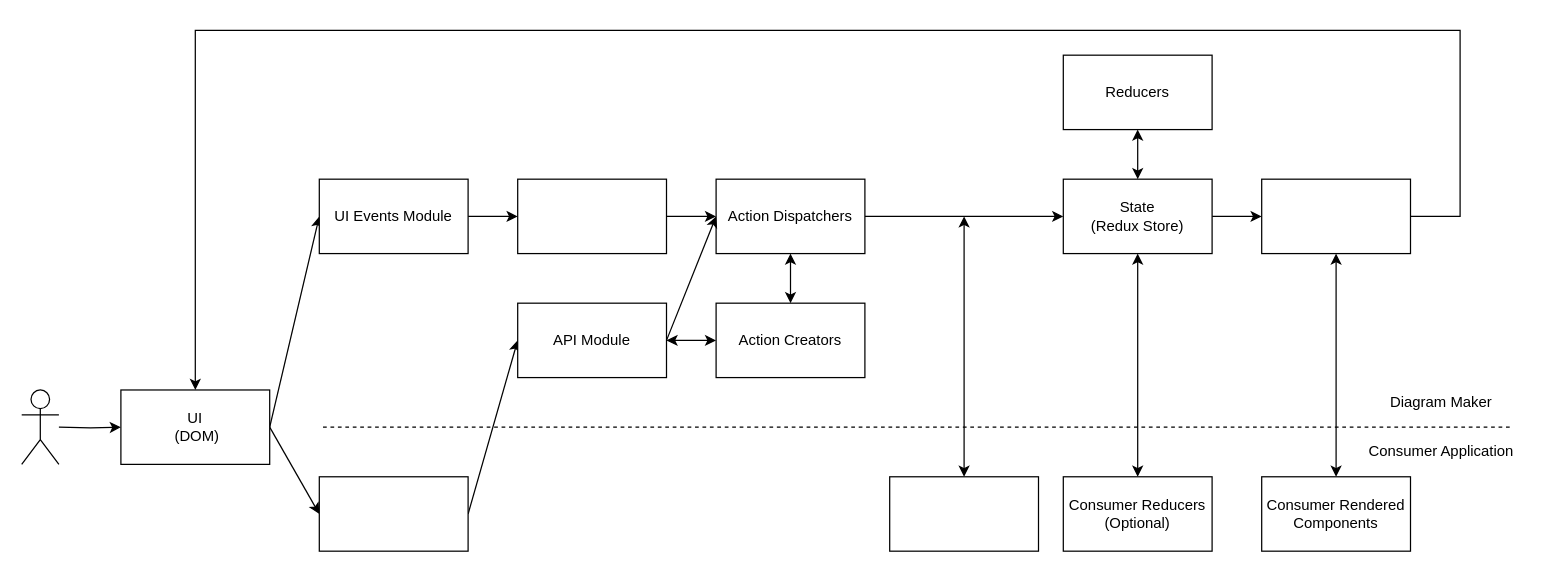
Image size: 1556x573. Some labels were removed from this diagram. The centre of each missing label's shape, as x and y in pixels:
Actor: the point at 39,426
Components: the point at 1335,216
Consumer Action Interceptor (Optional): the point at 963,513
Consumer Interaction Handlers (Optional): the point at 393,513
Observer (PubSub): the point at 591,216
